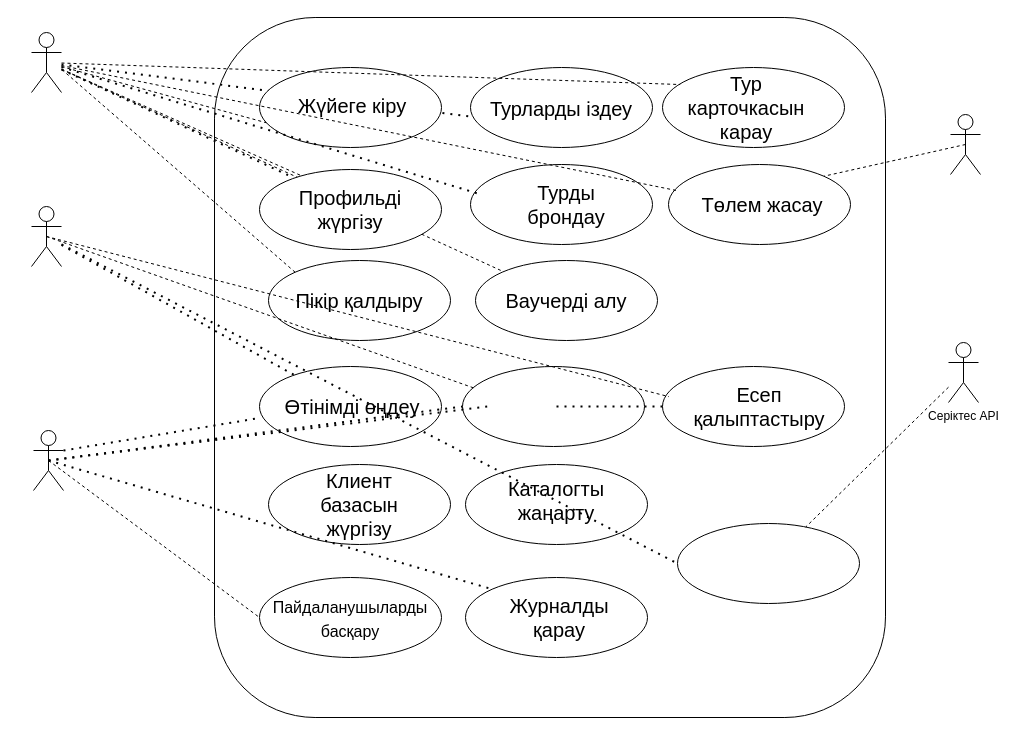
This 1019x735 diagram has some shape labels left out. Each missing label, with the centre of its shape:
"Бос орынды тексеру" belongs at (x=768, y=563).
"Клиент" belongs at (x=46, y=62).
"Менеджер" belongs at (x=46, y=236).
"Төлем шлюзі" belongs at (x=965, y=144).
"Құжат дайындау" belongs at (x=553, y=406).
"Әкімші" belongs at (x=48, y=460).
